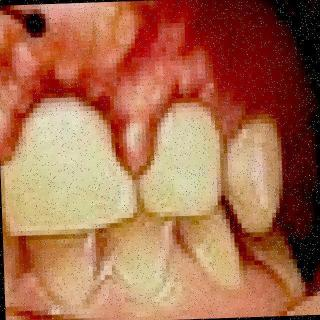Gum Swelling: (2, 20, 269, 178)
